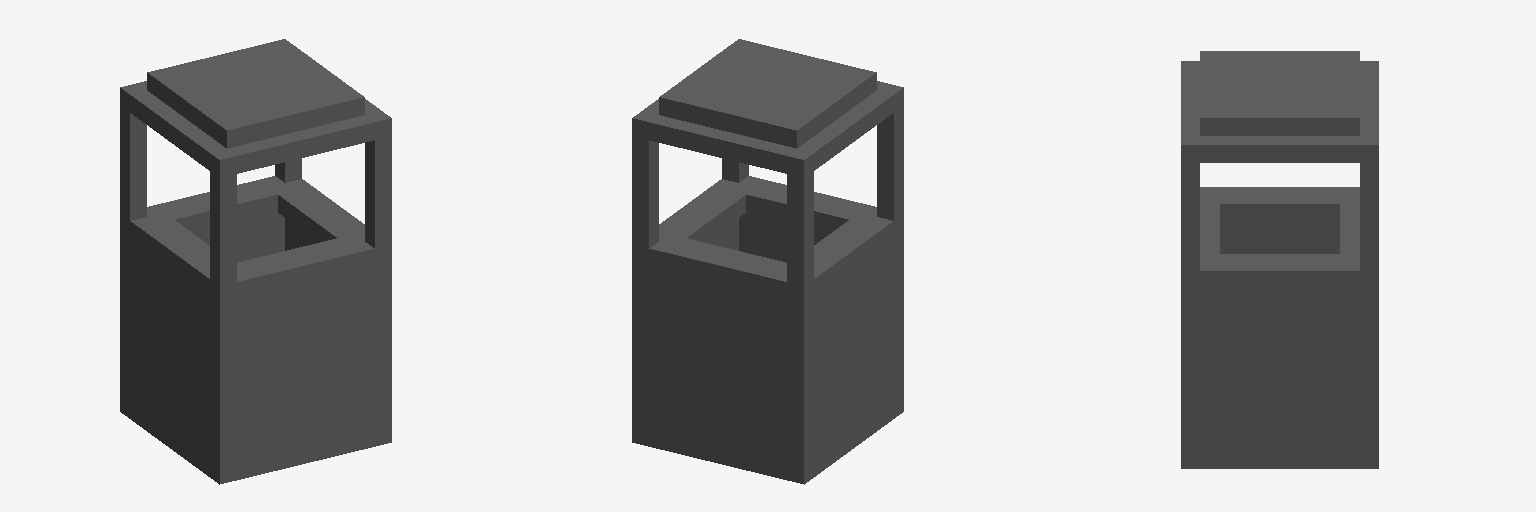
3 views of the same model, side by side, from view 1: azimuth 30°, elevation 25°; view 2: azimuth 150°, elevation 25°; view 3: azimuth 270°, elevation 25° (orthographic).
Parts seen in each view (by area): view 1: object 1; view 2: object 1; view 3: object 1.
Boxes of the visible parts, x1,y1,x2,y2 form: object 1: [120, 39, 391, 484]; object 1: [632, 39, 903, 484]; object 1: [1181, 51, 1378, 468].
Bounding box in the file's own units: 1 × 1.9 × 1.
Materials: 1 (1 with a texture image).